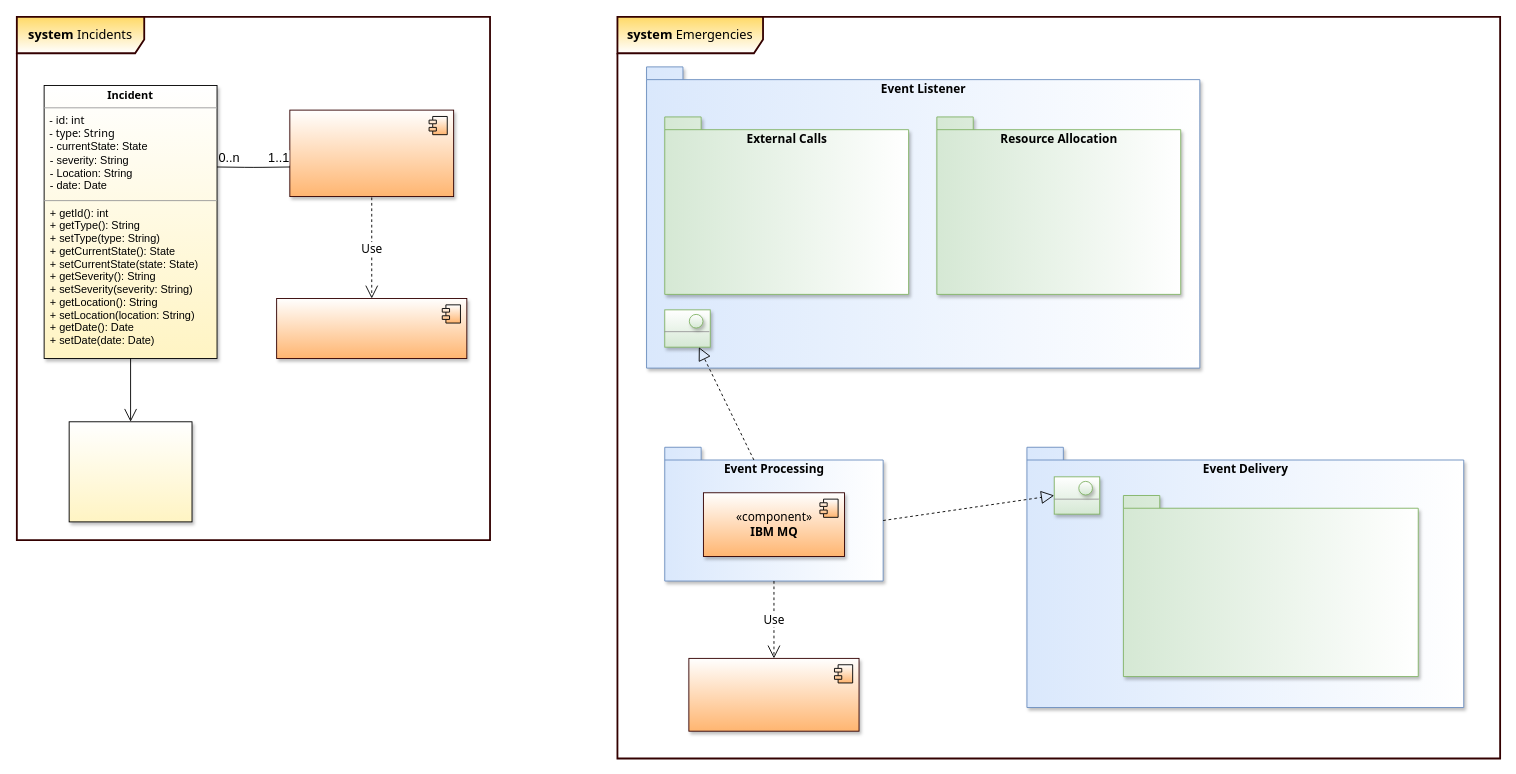
Some shapes in this 1516 by 774 pixel diagram are drawn without their labels. The centre of each missing label's shape, as x and y in pixels:
"<<Enumeration>> State Detected In progress Solved" belongs at point (131, 472).
"Event Detection" belongs at point (1271, 587).
"«component» Incident Manager" belongs at point (372, 154).
"«component» Oracle Database 19c Emergencies" belongs at point (774, 696).
"«component» Oracle Database 19c Incidents" belongs at point (372, 329).
